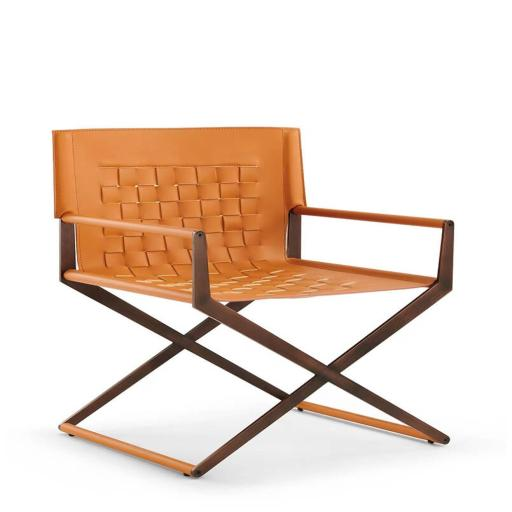chair: (34, 121, 474, 483)
